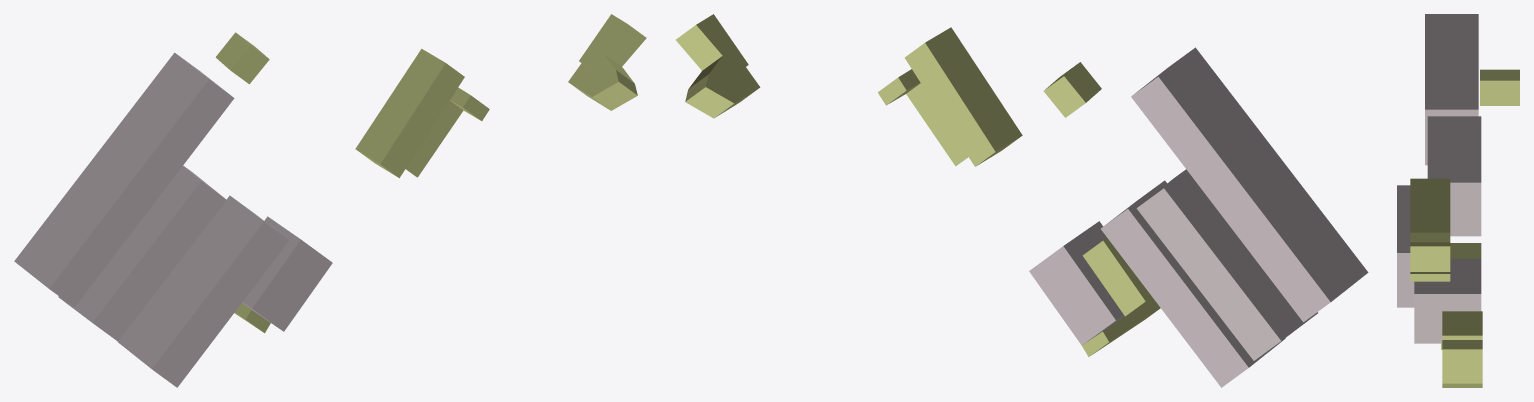
3 renders of one model, left to right at view 1: azimuth 30°, elevation 25°; view 2: azimuth 150°, elevation 25°; view 3: azimuth 270°, elevation 25°, orthographic. The views are drawn at different scales.
Visible parts, largest first — view 1: 0_0_1_1_3_2_0; view 2: 0_0_1_1_3_2_0; view 3: 0_0_1_1_3_2_0.
Part boxes in pixels (x1=…): 0_0_1_1_3_2_0: x1=14, y1=14, x2=646, y2=387; 0_0_1_1_3_2_0: x1=676, y1=14, x2=1368, y2=387; 0_0_1_1_3_2_0: x1=1397, y1=14, x2=1519, y2=387.
Size of the model in its own units: 167 by 77.47 by 27.6.
